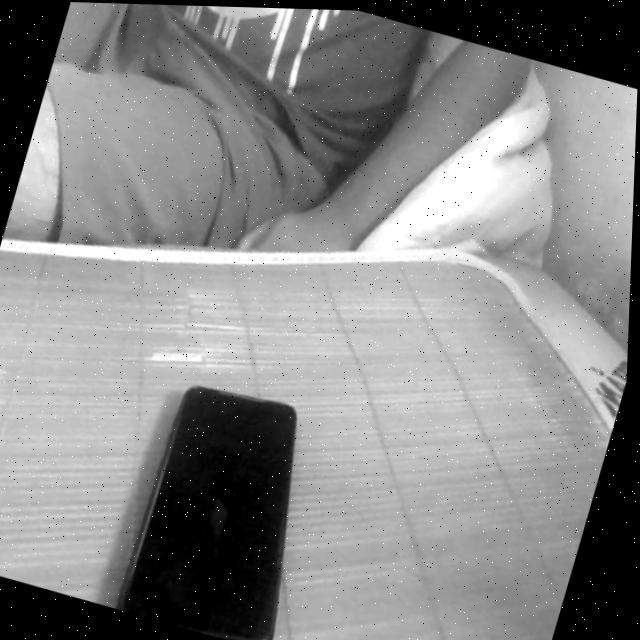phone: (89, 305, 382, 640)
